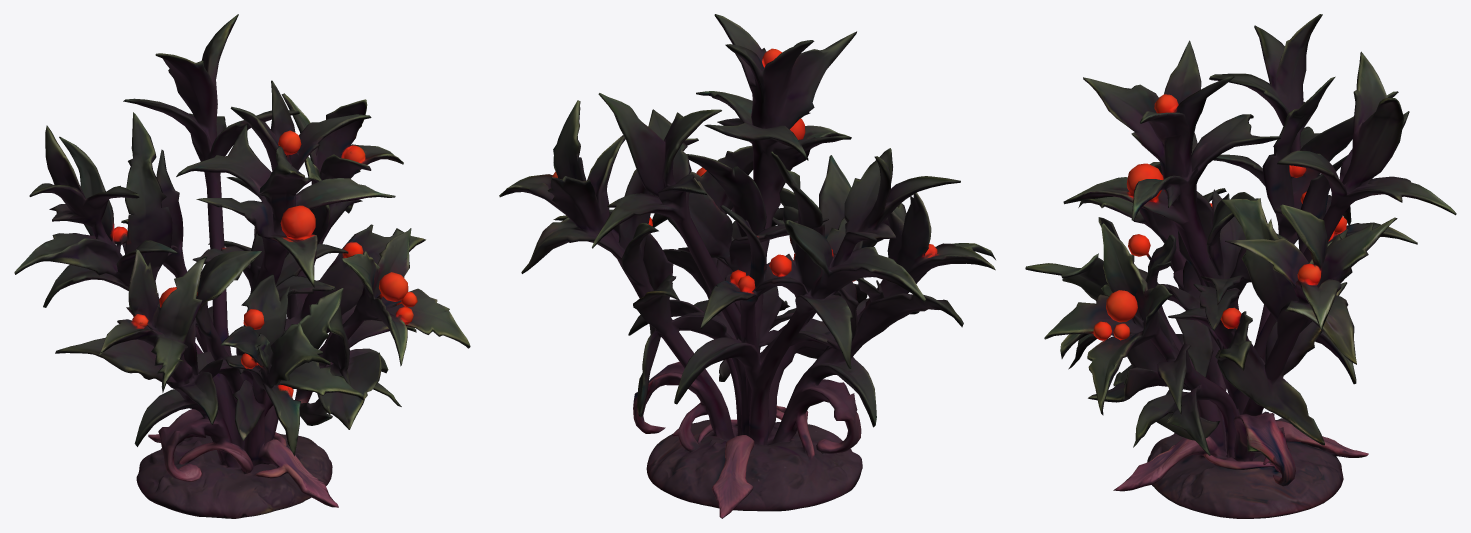
The model's file is Comestible.glb.
The picture shows the model from 3 angles, left to right: view 1: azimuth 30°, elevation 25°; view 2: azimuth 150°, elevation 25°; view 3: azimuth 270°, elevation 25°; orthographic projection. The views are drawn at different scales.
Parts seen in each view (by area): view 1: tripo_node_02591f37-91bb-436c-b7c2-eca1a16b6940; view 2: tripo_node_02591f37-91bb-436c-b7c2-eca1a16b6940; view 3: tripo_node_02591f37-91bb-436c-b7c2-eca1a16b6940.
Boxes of the visible parts, x1,y1,x2,y2 form: tripo_node_02591f37-91bb-436c-b7c2-eca1a16b6940: [14, 14, 470, 518]; tripo_node_02591f37-91bb-436c-b7c2-eca1a16b6940: [499, 14, 995, 518]; tripo_node_02591f37-91bb-436c-b7c2-eca1a16b6940: [1025, 14, 1456, 518].
Size of the model in its own units: 0.9697 by 0.9056 by 0.8449.
Materials: 1 (1 with a texture image).
